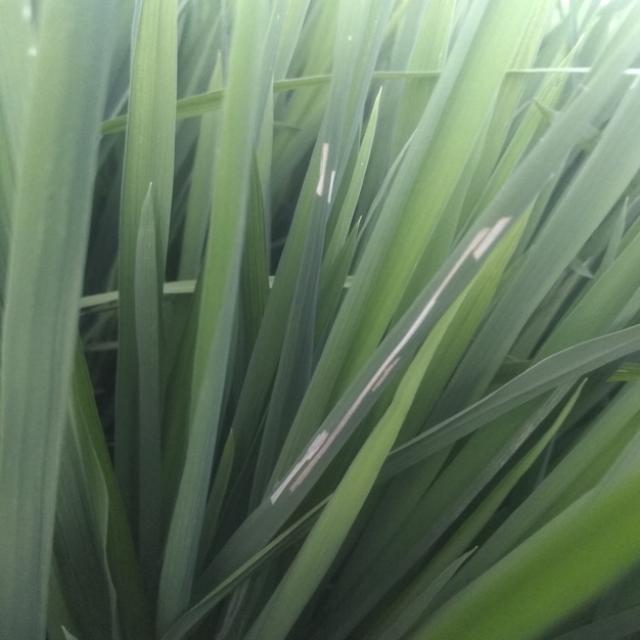brown plant hopper: (200, 212, 518, 512), (310, 138, 344, 206)
